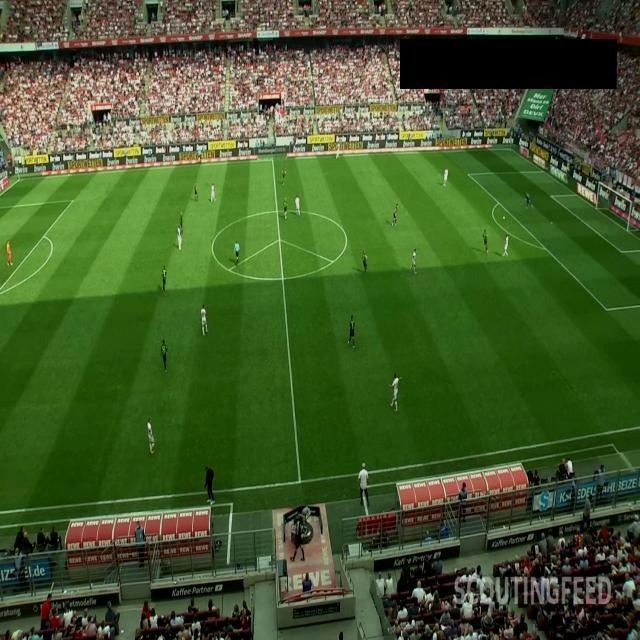Ball: (502, 216, 506, 220)
Corner: (510, 130, 512, 151)
GoalKeeper: (6, 240, 12, 266), (525, 191, 533, 209)
Referee: (234, 240, 240, 266), (198, 146, 202, 164)
TEAM 1: (388, 372, 402, 412), (147, 416, 155, 454), (408, 248, 418, 274), (200, 304, 208, 336), (176, 226, 182, 250), (503, 235, 509, 258), (295, 195, 301, 217), (443, 167, 449, 187), (212, 183, 216, 203)
TEAM 2: (347, 314, 355, 348), (160, 339, 168, 372), (483, 228, 489, 256), (362, 250, 368, 275), (392, 203, 398, 227), (162, 264, 166, 296), (178, 211, 184, 231), (283, 197, 287, 220), (194, 182, 198, 202), (282, 166, 286, 184)
